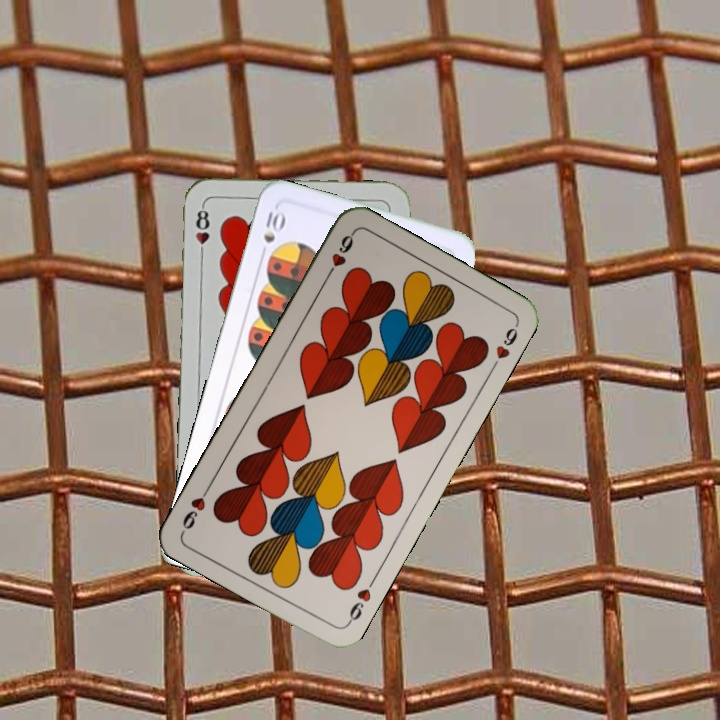H8: (192, 201, 212, 260)
H9: (321, 229, 358, 282), (343, 574, 379, 628)
S10: (256, 206, 288, 263)
